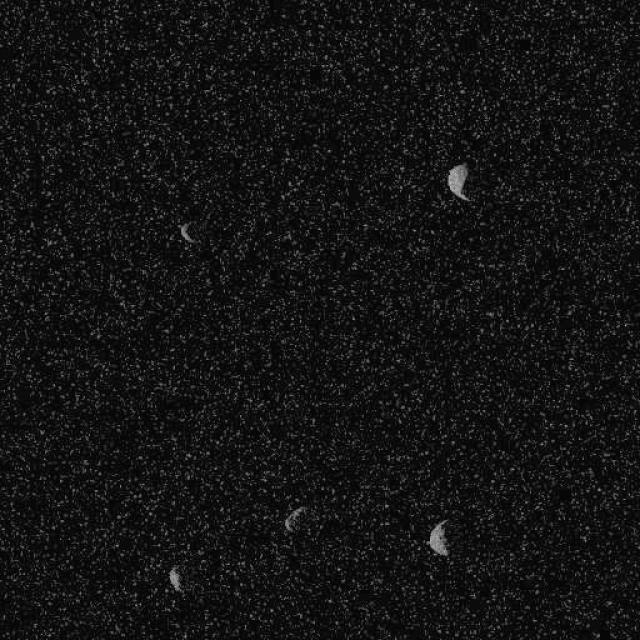D2: (445, 162, 473, 202), (428, 518, 448, 556), (282, 505, 308, 534), (178, 220, 198, 245), (166, 565, 182, 593)
